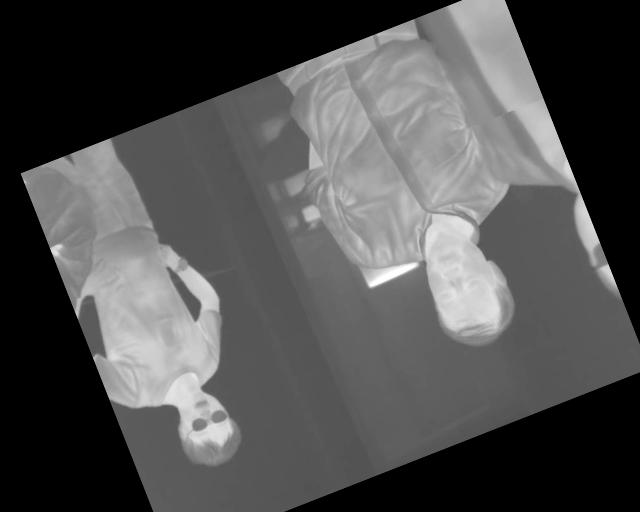face: (413, 225, 527, 358), (163, 381, 249, 477)
